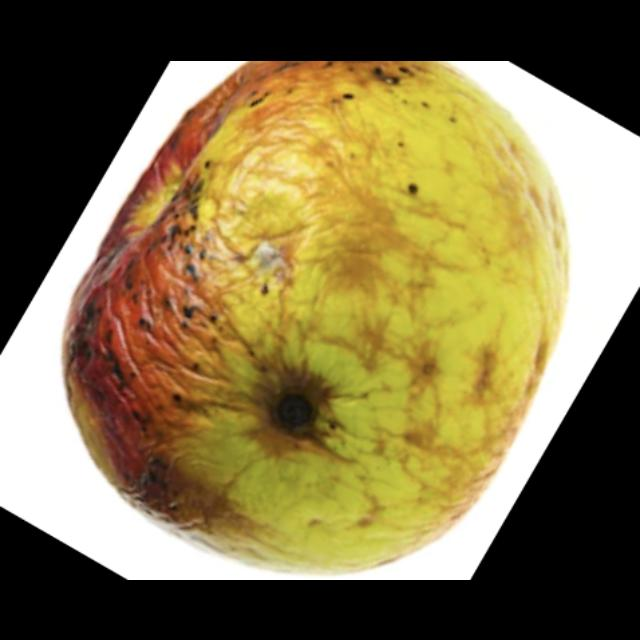Apel Tidak Segar: (70, 60, 571, 574)
